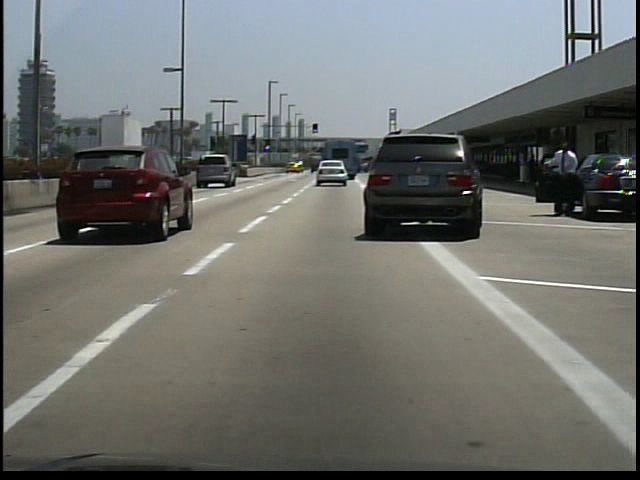person: (540, 137, 580, 221)
